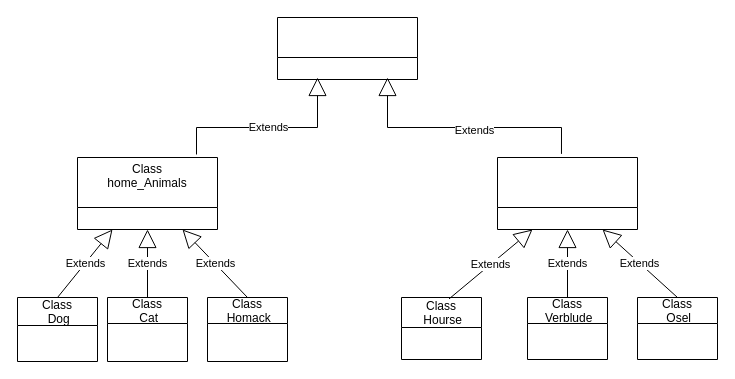
Image size: 735x379. Some labels were removed from this diagram. The centre of each missing label's shape, as x and y in pixels:
"Class Animals" belongs at point (347, 48).
"Class pack_Animals" belongs at point (567, 193).
